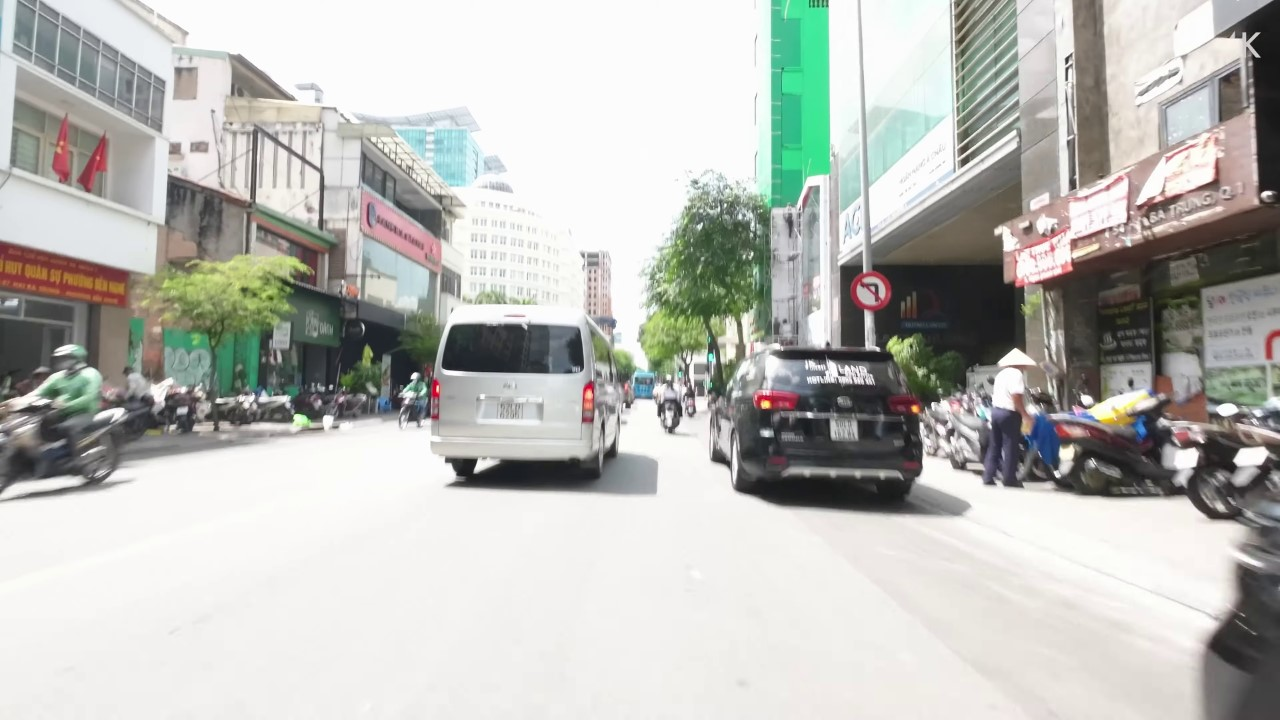cam_re_trai: (848, 268, 893, 314)
